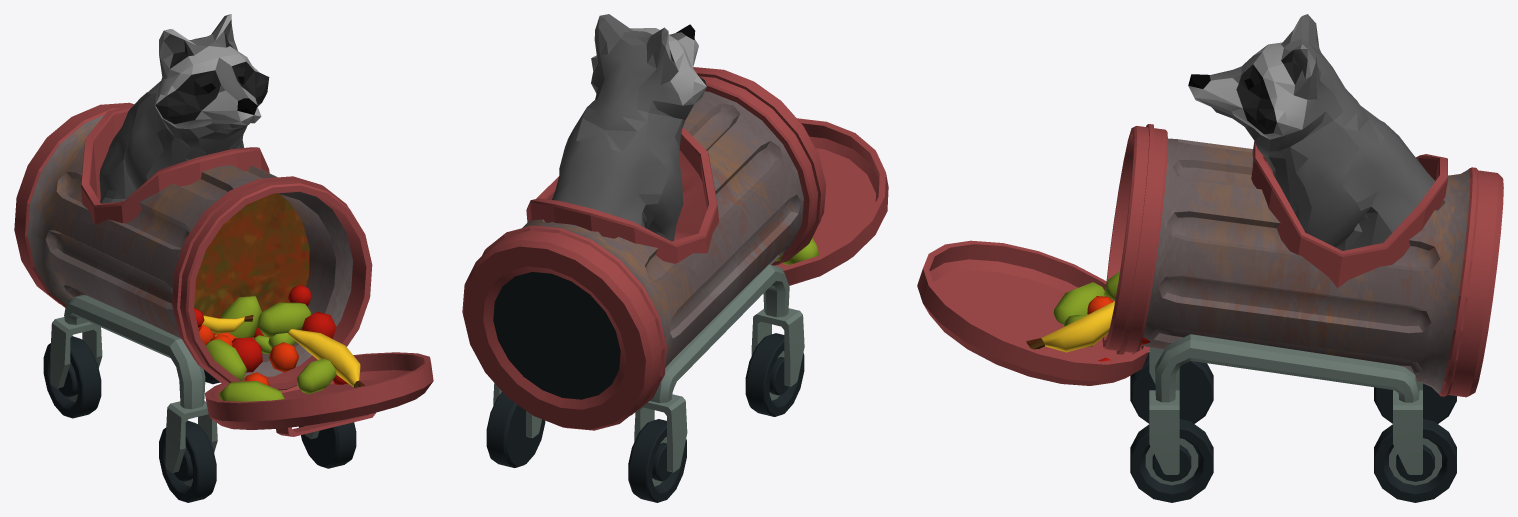
The model's file is raccoon.FBX.
3 renders of one model, left to right at view 1: azimuth 30°, elevation 25°; view 2: azimuth 150°, elevation 25°; view 3: azimuth 270°, elevation 25°, orthographic. The views are drawn at different scales.
Parts seen in each view (by area): view 1: trashcan, trashcan_team, trash_panda, Cylinder006; view 2: trashcan, trashcan_team, trash_panda; view 3: trashcan, trashcan_team, trash_panda.
Boxes of the visible parts, x1=… form: trashcan: x1=27, y1=115, x2=364, y2=502; trashcan_team: x1=14, y1=102, x2=433, y2=436; trash_panda: x1=99, y1=14, x2=269, y2=203; Cylinder006: x1=194, y1=193, x2=309, y2=318; trashcan: x1=486, y1=91, x2=819, y2=502; trashcan_team: x1=462, y1=67, x2=888, y2=430; trash_panda: x1=552, y1=14, x2=706, y2=241; trashcan: x1=1026, y1=138, x2=1469, y2=502; trashcan_team: x1=917, y1=124, x2=1503, y2=397; trash_panda: x1=1188, y1=14, x2=1435, y2=250.
Bounding box in the file's own units: 13.22 × 26.01 × 31.8.
Materials: 4 (4 with a texture image).
